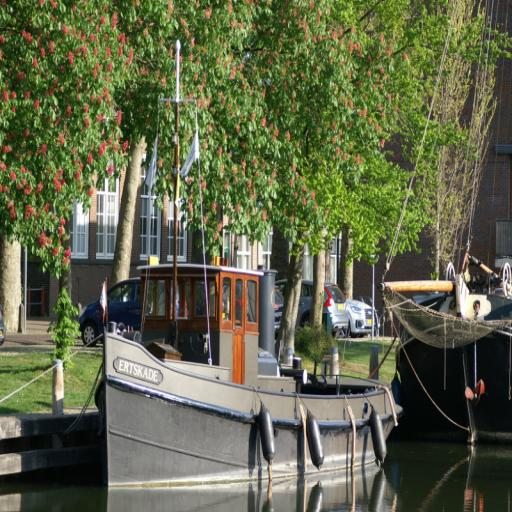tugboat: (98, 244, 399, 507)
